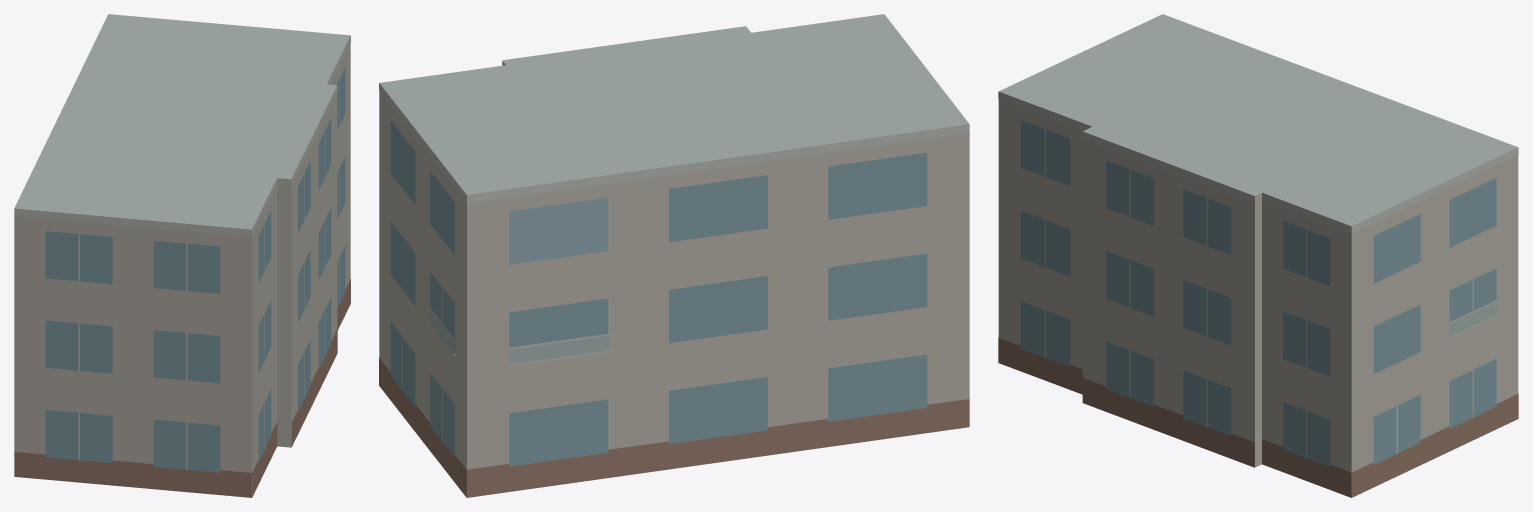
The model's file is survey-upis-32698042.glb.
The picture shows the model from 3 angles, left to right: view 1: azimuth 30°, elevation 25°; view 2: azimuth 150°, elevation 25°; view 3: azimuth 270°, elevation 25°; orthographic projection. The views are drawn at different scales.
Parts seen in each view (by area): view 1: survey-upis-32698042.tmp; view 2: survey-upis-32698042.tmp; view 3: survey-upis-32698042.tmp.
Boxes of the visible parts, x1=… form: survey-upis-32698042.tmp: x1=14, y1=14, x2=350, y2=497; survey-upis-32698042.tmp: x1=379, y1=14, x2=969, y2=497; survey-upis-32698042.tmp: x1=998, y1=14, x2=1518, y2=497.
Bounding box in the file's own units: 15.35 × 9.15 × 15.88.
